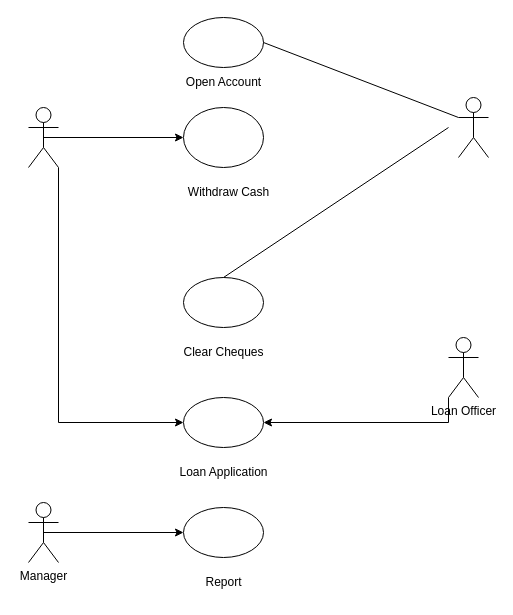
Some shapes in this 513 by 615 pixel diagram are drawn without their labels. Each missing label, with the centre of its shape:
Clerk: the point at 473,127
Customer: the point at 43,137
